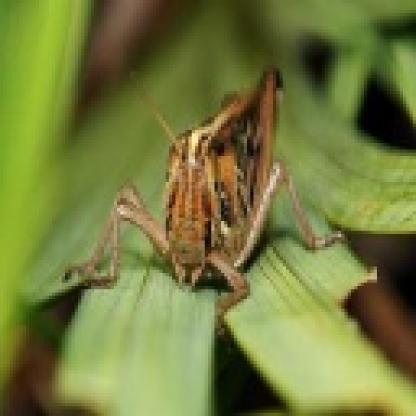grasshopper: (77, 67, 331, 304)
